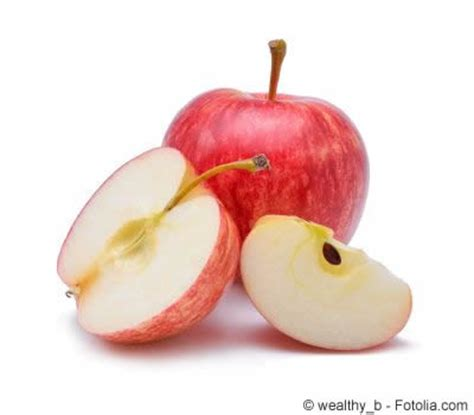apple: (160, 75, 374, 295)
